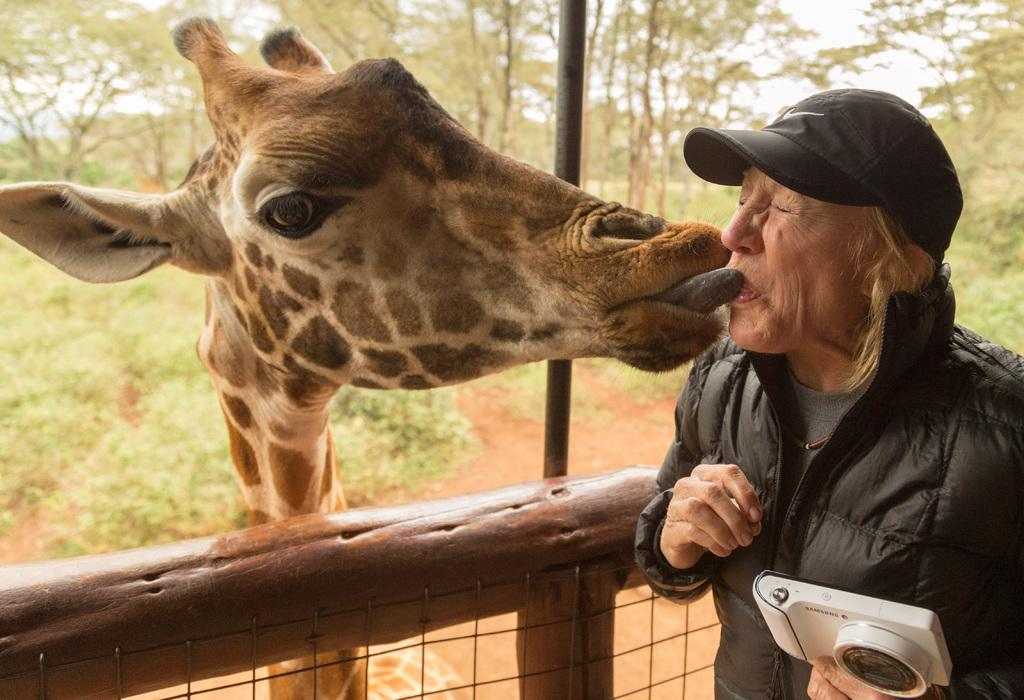Hat: (678, 81, 964, 264)
